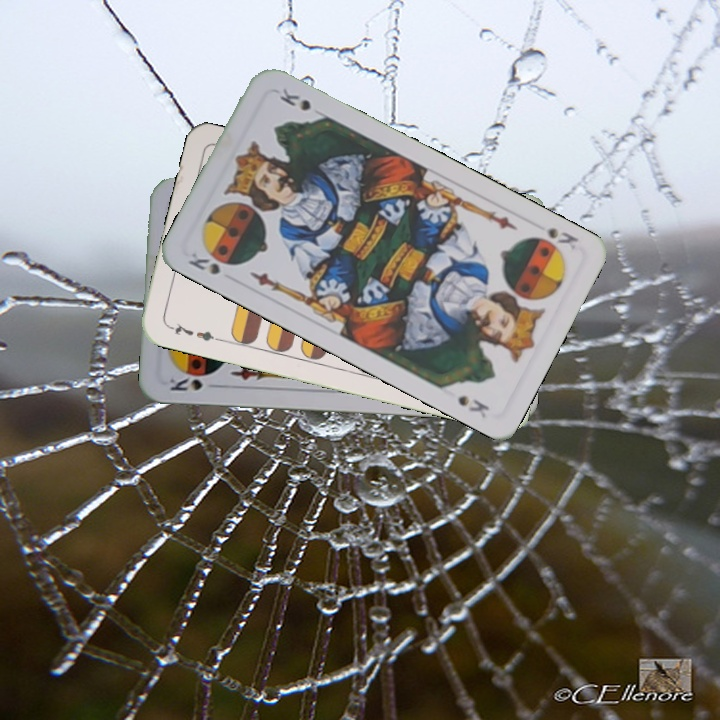E7: (164, 318, 222, 344)
SK: (541, 223, 582, 255), (165, 370, 214, 394), (184, 248, 223, 278)
